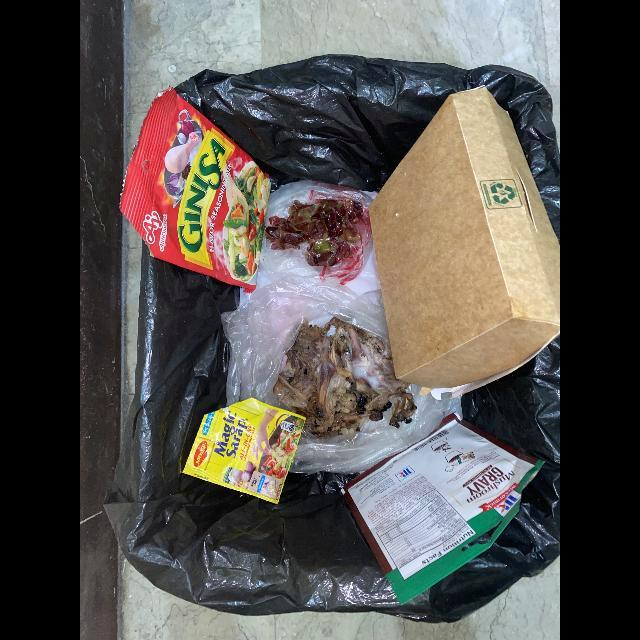cardboard: (368, 88, 560, 391)
left_over_food: (270, 317, 417, 440)
plastic_bag: (221, 276, 453, 475), (259, 180, 373, 286)
plastic_sachet: (342, 413, 545, 605), (119, 87, 271, 294), (182, 398, 306, 505)
